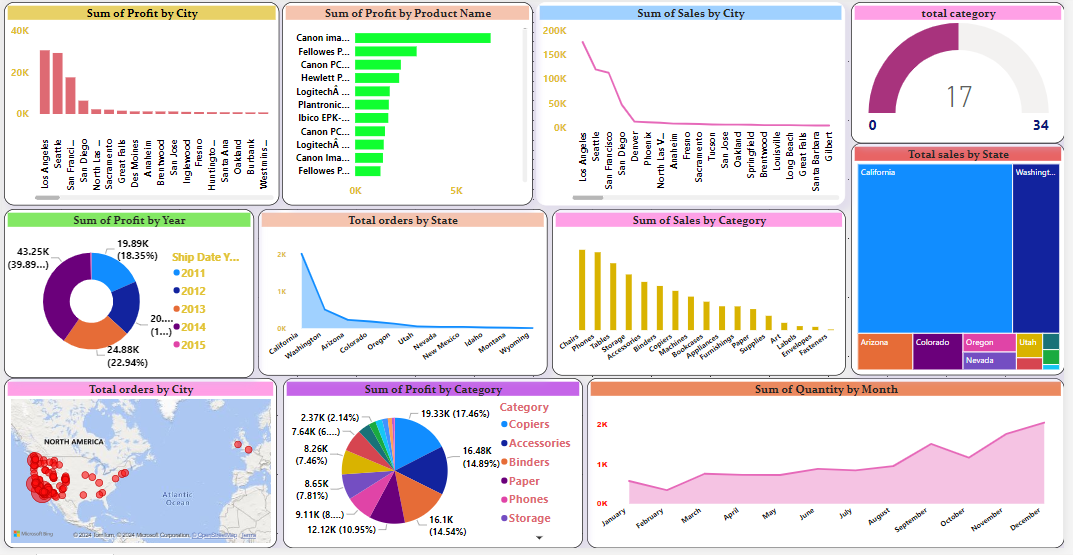

The page's visual inventory and layout, read from the dashboard file:
{"tool":"powerbi","page":{"name":"Page 2","canvas":[1729,888],"ordinal":1},"visuals":[{"type":"actionButton","box":[0,0,100,40],"z":0},{"type":"stackedAreaChart","fields":{"Category":["Walmart.Ship Date.Variation.Date Hierarchy.Month"],"Y":["Sum(Walmart.Quantity)"]},"box":[952.5,611.8,777.4,276.7],"z":1000},{"type":"pieChart","fields":{"Y":["Sum(Walmart.Profit)"],"Category":["Walmart.Category"]},"box":[457.4,611.8,487.5,276.7],"z":2000},{"type":"areaChart","fields":{"Category":["Walmart.State"],"Y":["Walmart.Total orders"]},"box":[416,336.9,470.6,271.1],"z":3000},{"type":"treemap","fields":{"Group":["Walmart.State"],"Values":["Walmart.Total sales"]},"box":[1381.6,229.6,348.2,378.4],"z":4000},{"type":"columnChart","fields":{"Y":["Sum(Walmart.Profit)"],"Category":["Walmart.City"]},"box":[4,0,448,331.3],"z":5000},{"type":"ribbonChart","fields":{"Category":["Walmart.Category"],"Y":["Sum(Walmart.Sales)"]},"box":[894.1,336.9,478.1,271.1],"z":6000},{"type":"lineChart","fields":{"Y":["Sum(Walmart.Sales)"],"Category":["Walmart.City"]},"box":[869,0,502.6,331.3],"z":7000},{"type":"clusteredBarChart","fields":{"Category":["Walmart.Product Name"],"Y":["Sum(Walmart.Profit)"]},"box":[455.5,0,408.5,331.3],"z":8000},{"type":"gauge","fields":{"Y":["Walmart.total category"]},"box":[1381.6,0,348.2,229.6],"z":9000},{"type":"map","fields":{"Size":["Walmart.Total orders"],"Category":["Walmart.City"]},"box":[3.8,611.8,444.2,276.7],"z":10000},{"type":"donutChart","fields":{"Y":["Sum(Walmart.Profit)"],"Category":["Walmart.Ship Date.Variation.Date Hierarchy.Year"]},"box":[3.8,336.9,406.6,274.8],"z":11000}]}

Visuals, with their boxes in screenshot pixels (x1, y1, x2, y2), scaled from the page's 1729x888 canvas onto the 1073x555 screenshot:
actionButton: l=0, t=0, r=62, b=25
stackedAreaChart - Walmart.Ship Date.Variation.Date Hierarchy.Month x Sum(Walmart.Quantity): l=591, t=382, r=1072, b=554
pieChart - Sum(Walmart.Profit) x Walmart.Category: l=284, t=382, r=586, b=554
areaChart - Walmart.State x Walmart.Total orders: l=258, t=211, r=550, b=380
treemap - Walmart.State x Walmart.Total sales: l=857, t=144, r=1072, b=380
columnChart - Sum(Walmart.Profit) x Walmart.City: l=2, t=0, r=281, b=207
ribbonChart - Walmart.Category x Sum(Walmart.Sales): l=555, t=211, r=852, b=380
lineChart - Sum(Walmart.Sales) x Walmart.City: l=539, t=0, r=851, b=207
clusteredBarChart - Walmart.Product Name x Sum(Walmart.Profit): l=283, t=0, r=536, b=207
gauge - Walmart.total category: l=857, t=0, r=1072, b=144
map - Walmart.Total orders x Walmart.City: l=2, t=382, r=278, b=554
donutChart - Sum(Walmart.Profit) x Walmart.Ship Date.Variation.Date Hierarchy.Year: l=2, t=211, r=255, b=382
